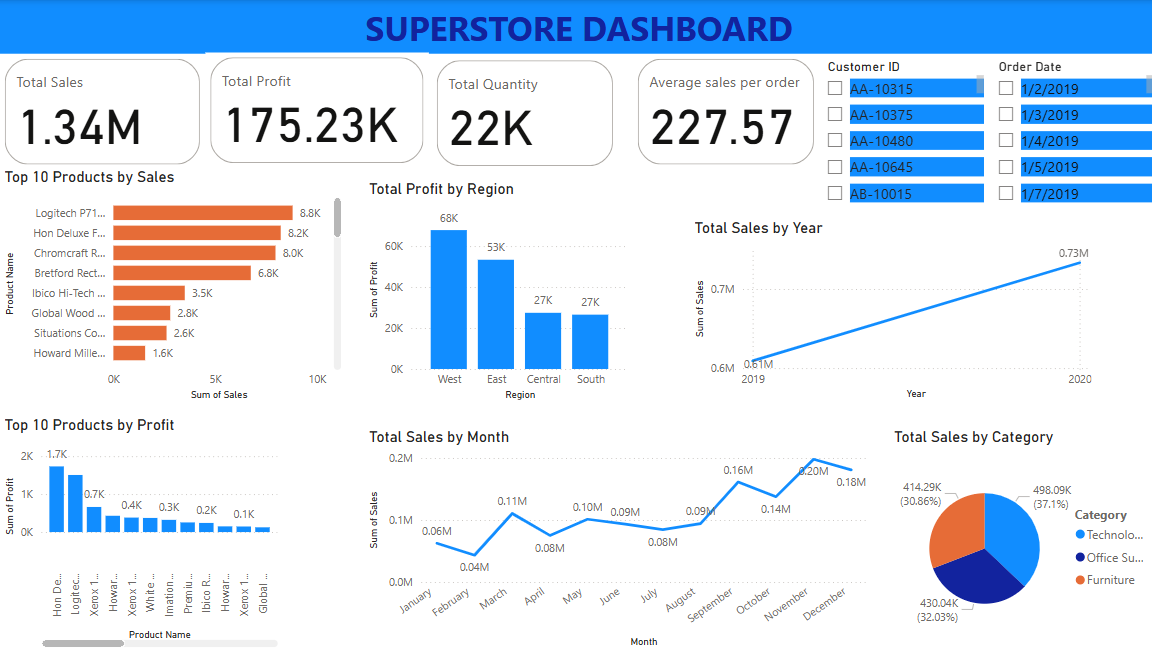

The page's visual inventory and layout, read from the dashboard file:
{"tool":"powerbi","page":{"name":"Page 1","canvas":[1280,720],"ordinal":0},"visuals":[{"type":"textbox","box":[0,0,1278.8,59.6],"z":0},{"type":"cardVisual","fields":{"Data":["Sum(Orders.Sales)"]},"box":[0,59.6,226.9,127.5],"z":1000},{"type":"cardVisual","fields":{"Data":["Sum(Orders.Profit)"]},"box":[226.9,58,246.8,127.5],"z":2000},{"type":"cardVisual","fields":{"Data":["Sum(Orders.Quantity)"]},"box":[477.1,61.3,205.4,127.5],"z":3000},{"type":"cardVisual","fields":{"Data":["Orders.Average sales per order"]},"box":[699,59.6,205.4,127.5],"z":4000},{"type":"clusteredBarChart","title":"Top 10 Products by  Sales","fields":{"Y":["Sum(Orders.Sales)"],"Category":["Orders.Product Name"]},"box":[0,185.2,381.7,260.8],"z":5000},{"type":"columnChart","title":"Top 10 Products by Profit","fields":{"Category":["Orders.Product Name"],"Y":["Sum(Orders.Profit)"]},"box":[0,459.2,311.8,260.8],"z":6000},{"type":"lineChart","title":"Total Sales by Month","fields":{"Category":["Orders.Order Date.Variation.Date Hierarchy.Month"],"Y":["Sum(Orders.Sales)"]},"box":[402.5,472.4,559.4,247.6],"z":7000},{"type":"pieChart","title":"Total Sales by Category","fields":{"Y":["Sum(Orders.Sales)"],"Category":["Orders.Category"]},"box":[982.7,472.4,296.7,247.6],"z":8000},{"type":"columnChart","title":"Total Profit by Region","fields":{"Y":["Sum(Orders.Profit)"],"Category":["Orders.Region"]},"box":[402.5,198.4,296.7,247.6],"z":9000},{"type":"slicer","fields":{"Values":["Orders.Customer ID"]},"box":[901.1,59.6,190.5,169],"z":10000},{"type":"slicer","fields":{"Values":["Orders.Order Date"]},"box":[1090,59.6,188.8,169],"z":11000},{"type":"lineChart","title":"Total Sales by Year","fields":{"Y":["Sum(Orders.Sales)"],"Category":["Orders.Order Date.Variation.Date Hierarchy.Year"]},"box":[762,241.8,448.9,203.7],"z":12000}]}

Visuals, with their boxes in screenshot pixels (x1, y1, x2, y2), scaled from the page's 1280x720 canvas onto the 1152x652 screenshot:
textbox: <region>0, 0, 1151, 54</region>
cardVisual - Sum(Orders.Sales): <region>0, 54, 204, 169</region>
cardVisual - Sum(Orders.Profit): <region>204, 53, 426, 168</region>
cardVisual - Sum(Orders.Quantity): <region>429, 56, 614, 171</region>
cardVisual - Orders.Average sales per order: <region>629, 54, 814, 169</region>
"Top 10 Products by  Sales" clusteredBarChart: <region>0, 168, 344, 404</region>
"Top 10 Products by Profit" columnChart: <region>0, 416, 281, 651</region>
"Total Sales by Month" lineChart: <region>362, 428, 866, 651</region>
"Total Sales by Category" pieChart: <region>884, 428, 1151, 651</region>
"Total Profit by Region" columnChart: <region>362, 180, 629, 404</region>
slicer - Orders.Customer ID: <region>811, 54, 982, 207</region>
slicer - Orders.Order Date: <region>981, 54, 1151, 207</region>
"Total Sales by Year" lineChart: <region>686, 219, 1090, 403</region>
